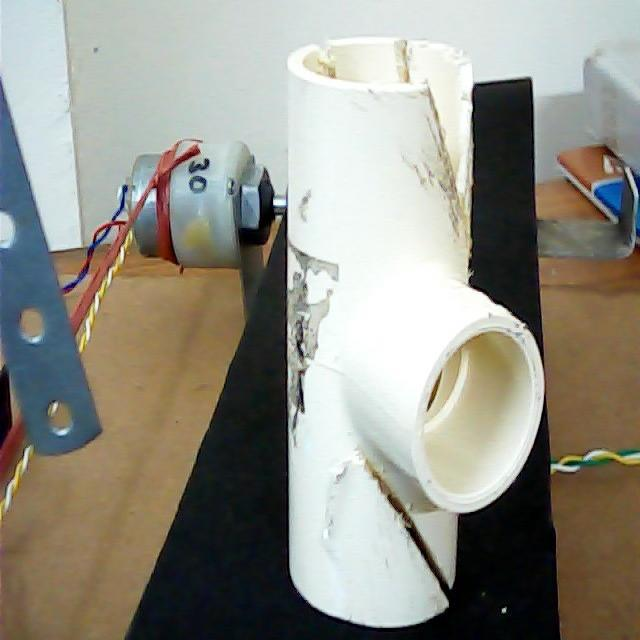Defective: (346, 443, 473, 624), (277, 224, 344, 447), (402, 60, 479, 252), (370, 467, 449, 595), (417, 85, 470, 254), (297, 65, 427, 100), (307, 36, 355, 94), (384, 30, 423, 94)
T Joint: (285, 38, 546, 632)
